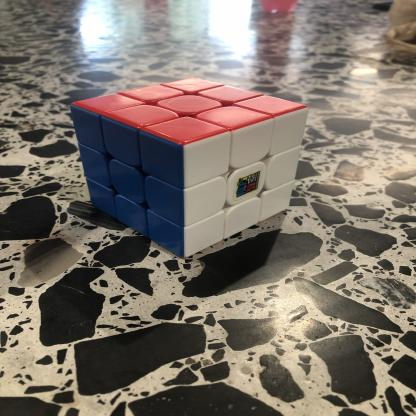SolvedCube: (49, 59, 316, 268)
